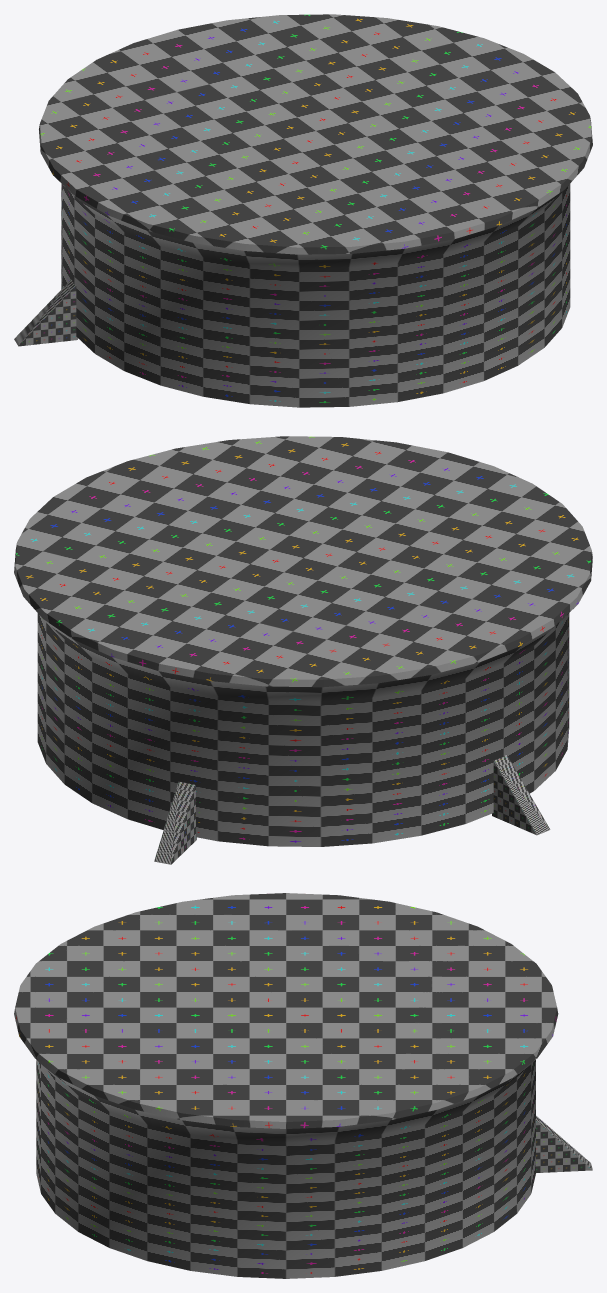
Rendered from Laputa_socle.glb.
3 renders of one model, top to bottom at view 1: azimuth 30°, elevation 25°; view 2: azimuth 150°, elevation 25°; view 3: azimuth 270°, elevation 25°, orthographic. The views are drawn at different scales.
Visible parts, largest first — view 1: Cylinder.006; view 2: Cylinder.006; view 3: Cylinder.006.
Boxes of the visible parts, x1,y1,x2,y2 form: Cylinder.006: (14, 14, 592, 407); Cylinder.006: (14, 436, 592, 864); Cylinder.006: (14, 893, 592, 1278).
Size of the model in its own units: 497 by 162 by 502.
Materials: 1 (1 with a texture image).
